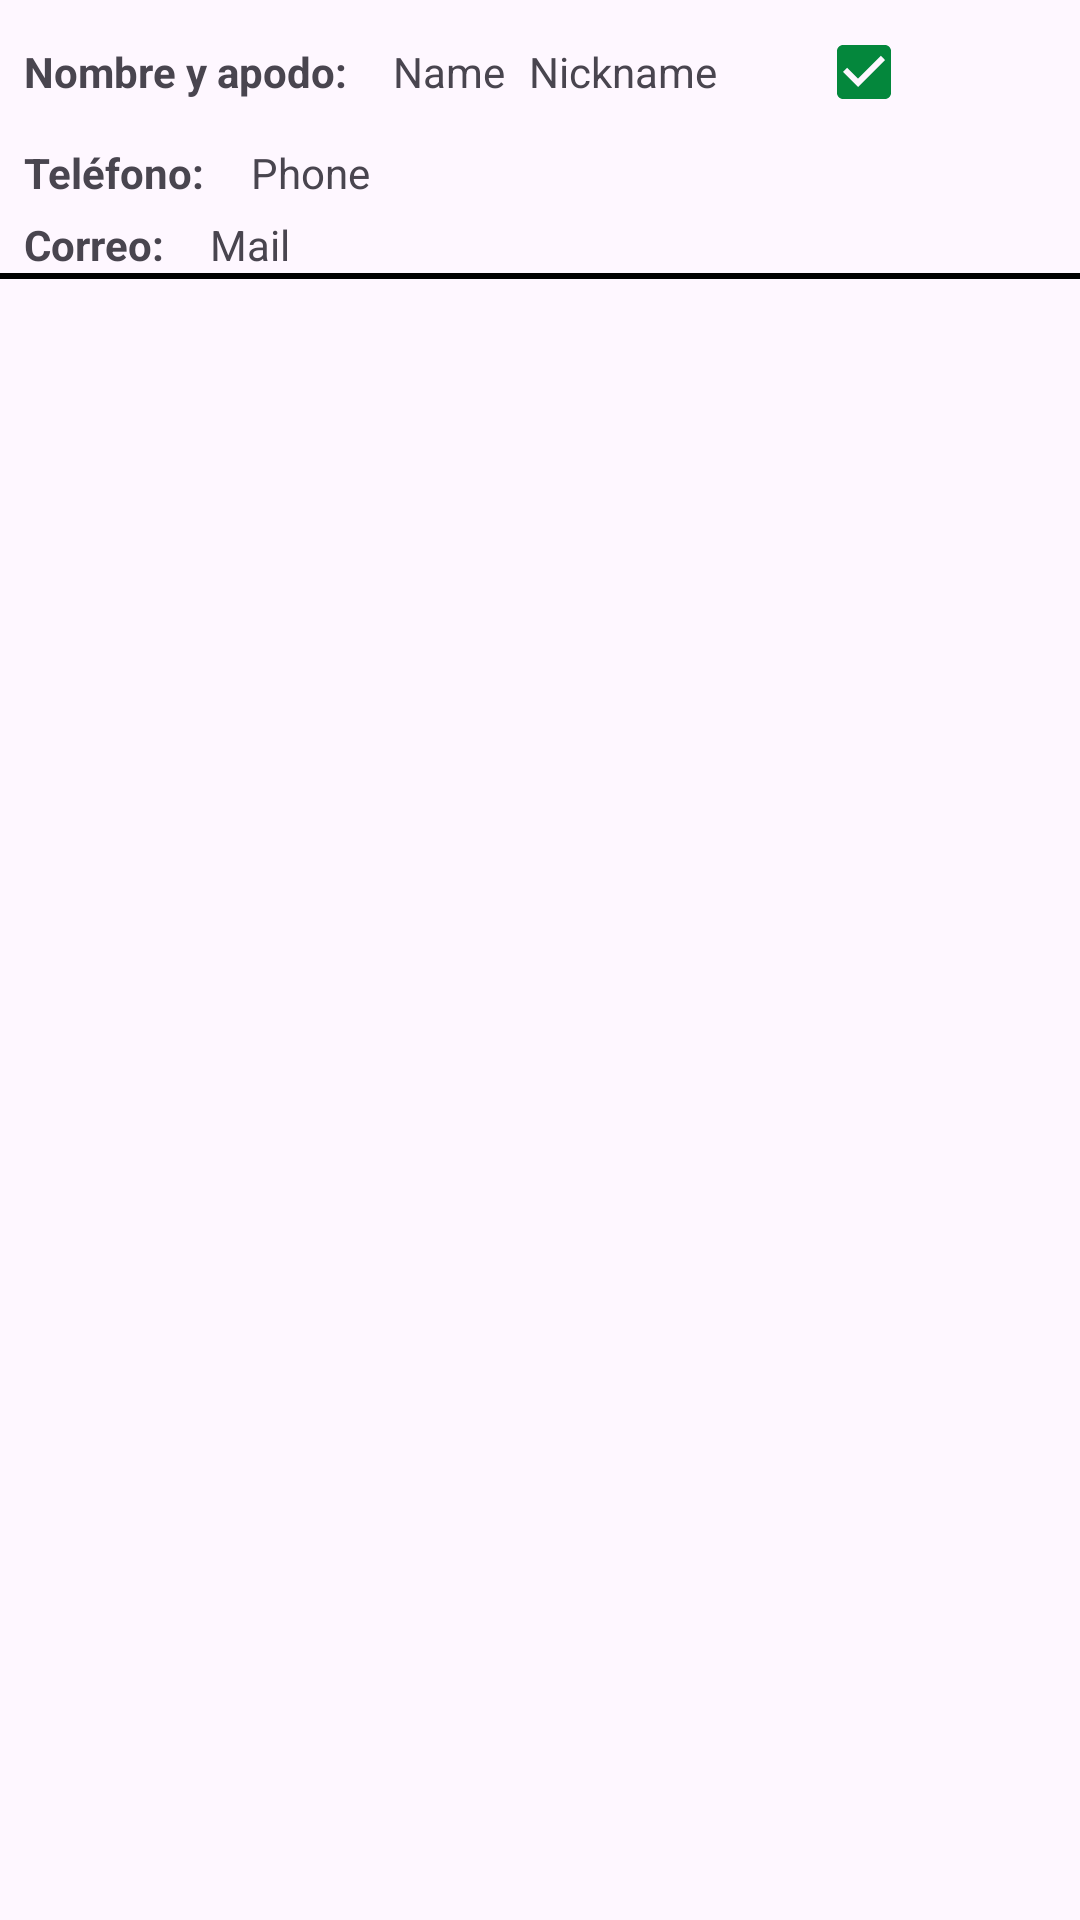

Point at icon controls on the screen. Image size 1080 × 1920, points as [x,y].
accept: [864,72]
